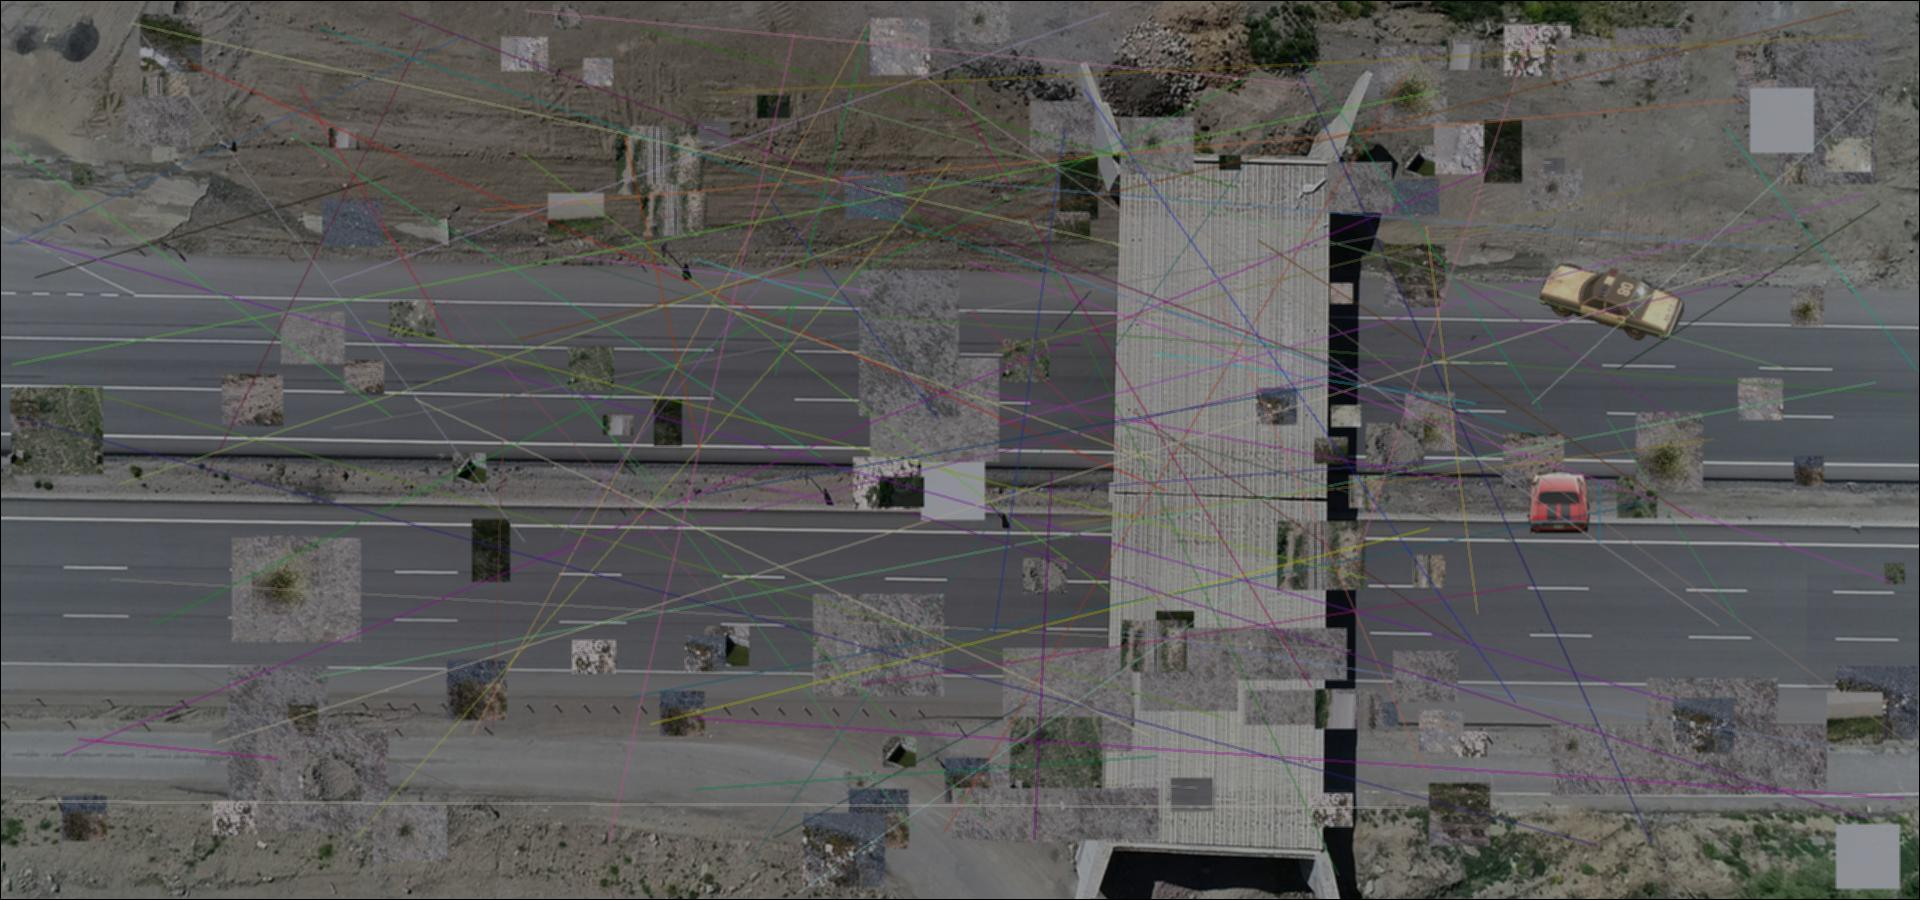arac: (1540, 258, 1685, 340), (1521, 468, 1591, 533)
